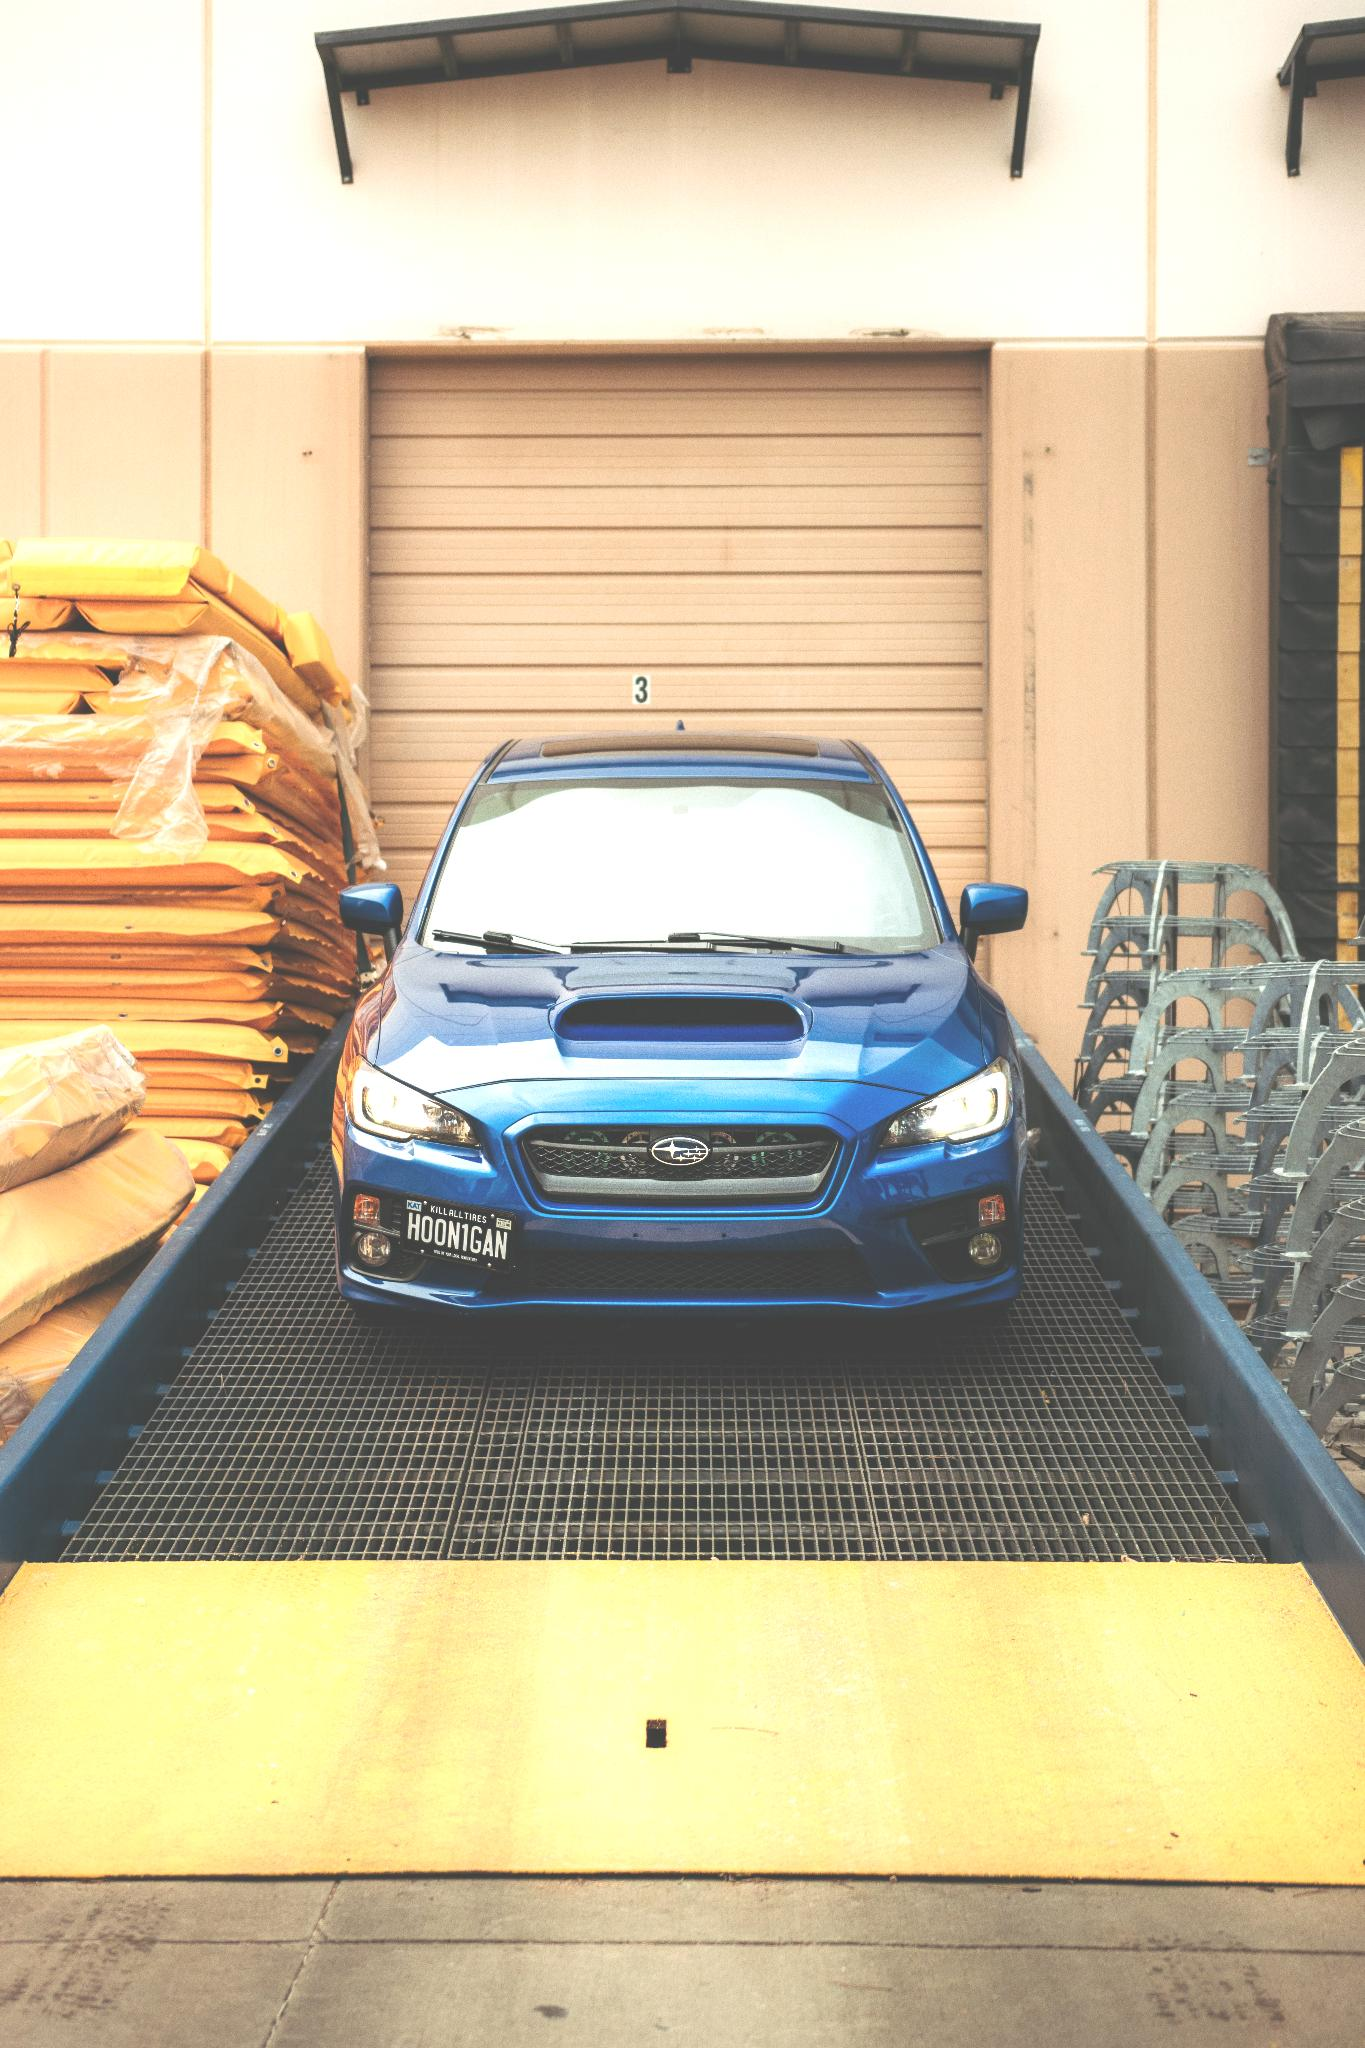subaru: (631, 1113, 724, 1197)
